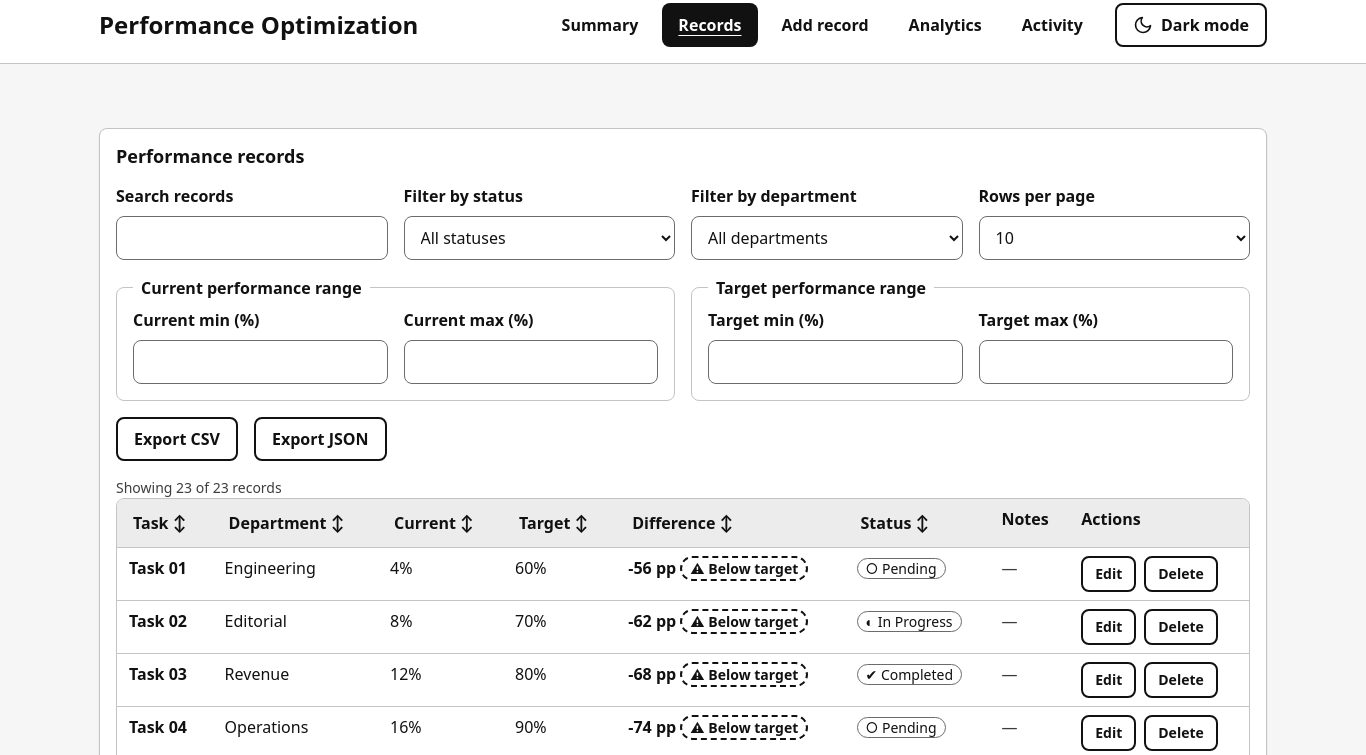
Test case: pagination › keeps the sort order across pages
The width and height of the screenshot is (1366, 755).
Click the button with aria-label "sort by current" at (434, 522), box [390,506,478,538]
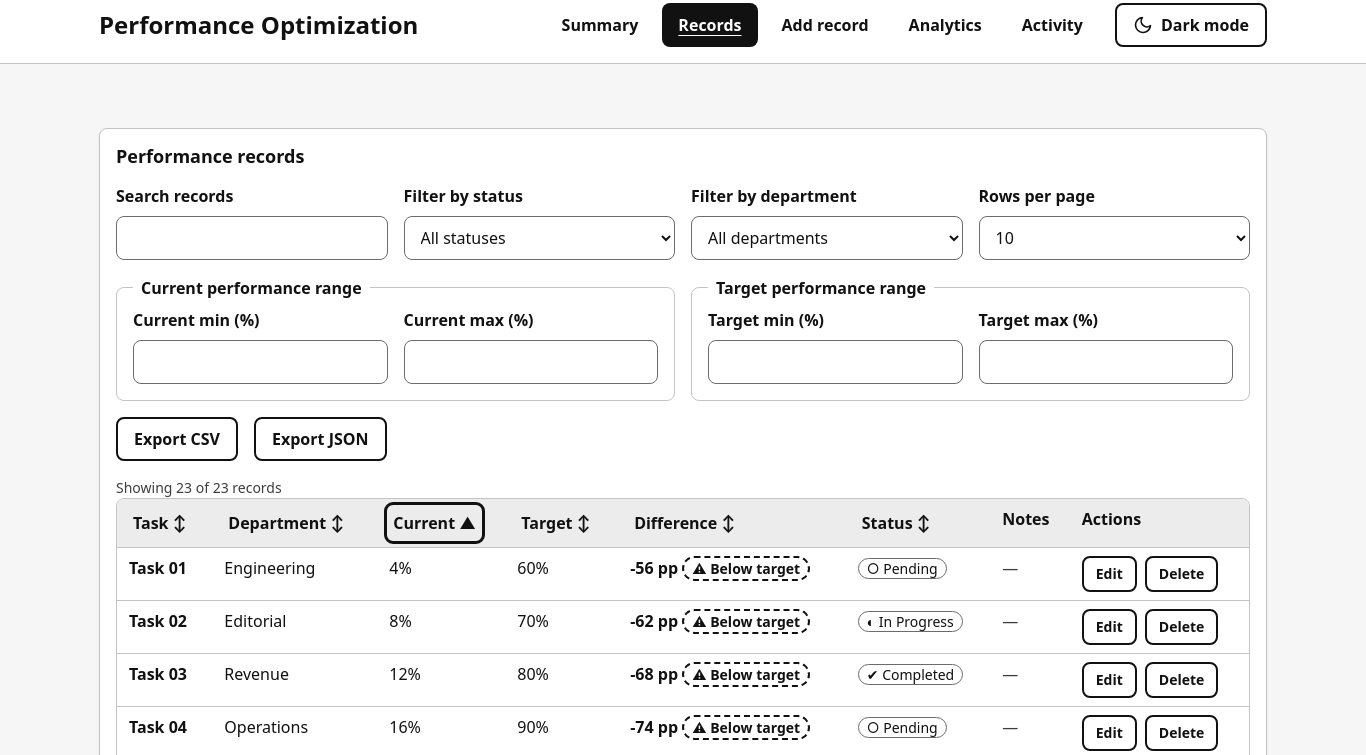
Click the button with aria-label "sort by current" at (435, 522), box [389,506,480,538]
(page scrolled)
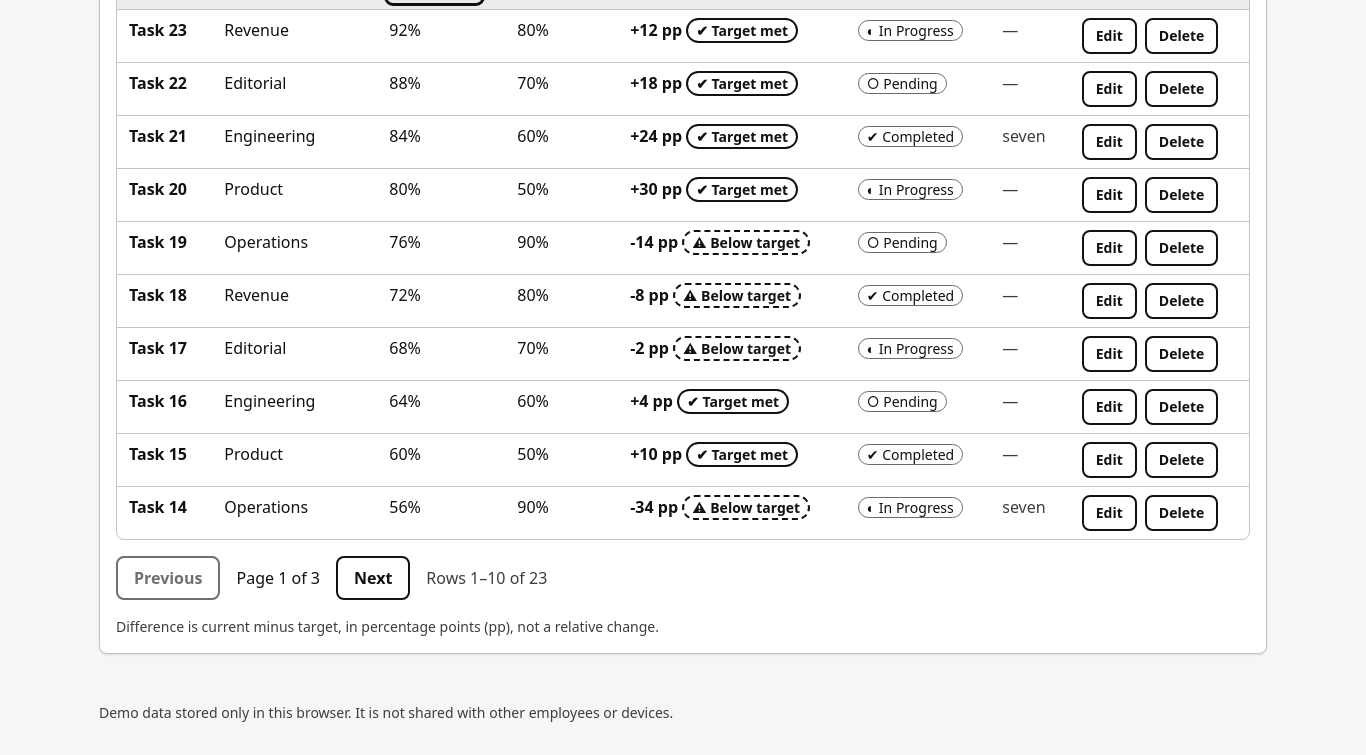
Expected: the column heading "Task 23" is shown, [117,9,212,62]
Click the button "Next" at (373, 578), box [336,556,410,600]
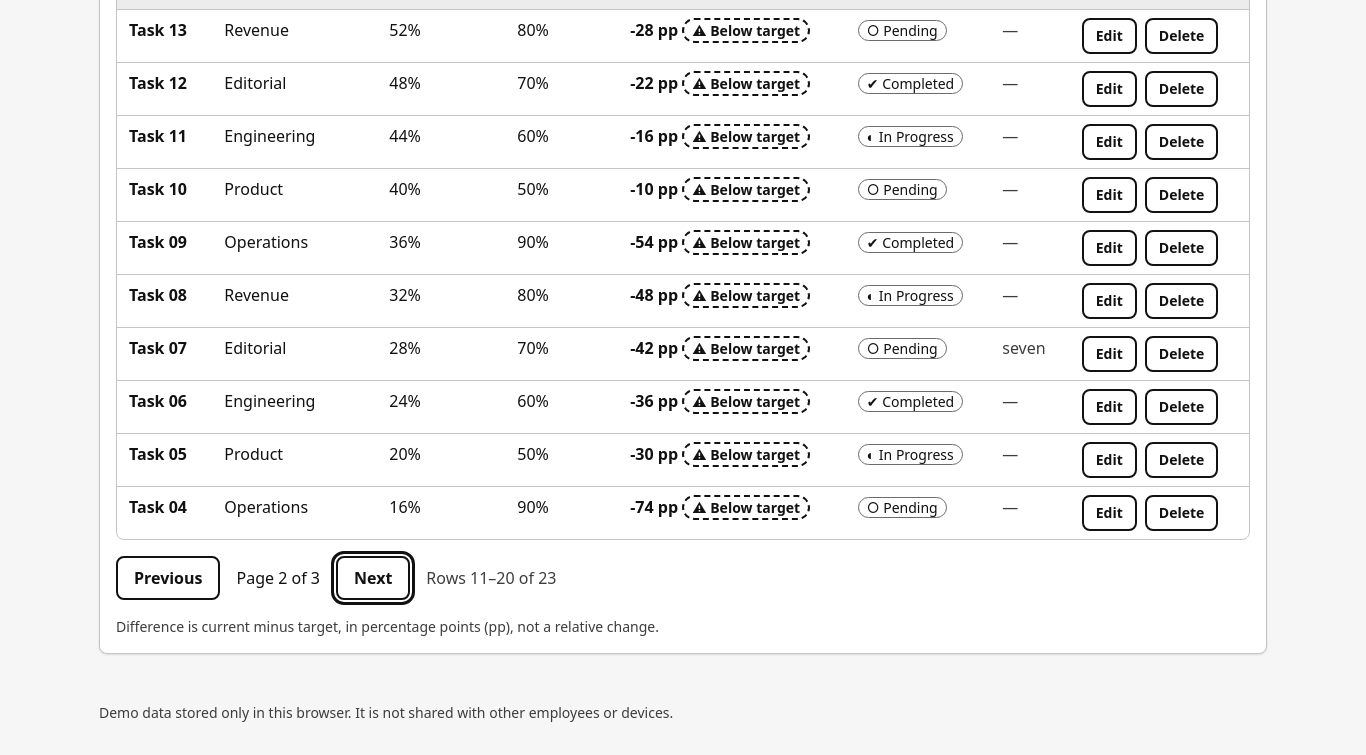
Expected: the column heading "Task 13" is shown, [117,9,212,62]
